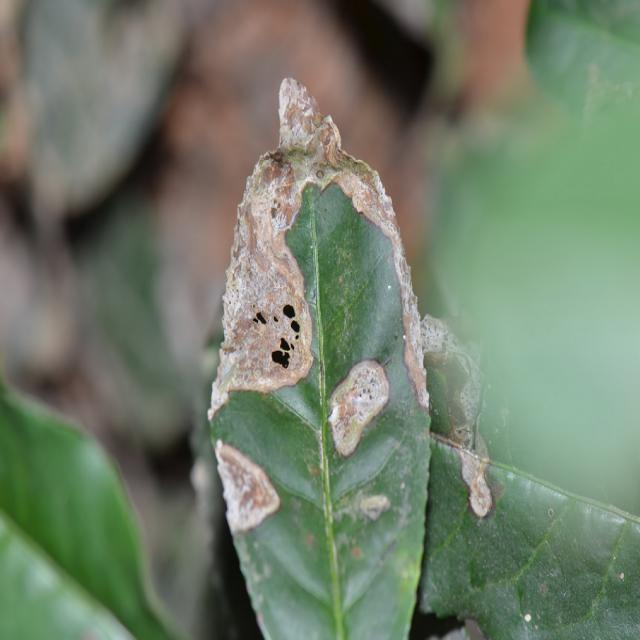Tea cloud leaf blight: (207, 81, 441, 378), (184, 429, 279, 546), (327, 344, 408, 479)
